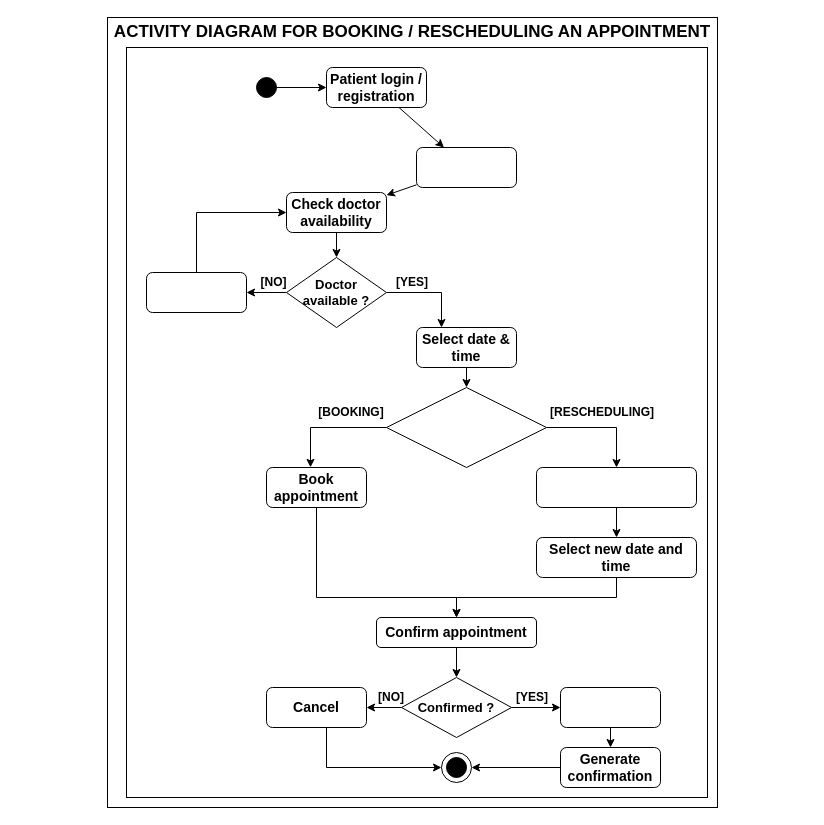
The diagram is 824 pixels wide and 825 high, and some of its shapes have lost their labels. Here are the shapes that lost their labels. From the top down, the centre of each, then its label:
At point (466, 167): "Select Doctor".
At point (196, 292): "Select another doctor".
At point (466, 427): "Booking or rescheduling ?".
At point (616, 487): "Select existing appointment".
At point (610, 707): "Save appointment".
